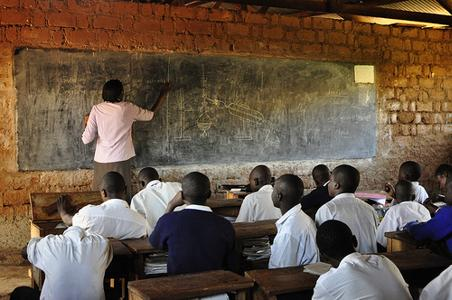person: (83, 78, 173, 191)
